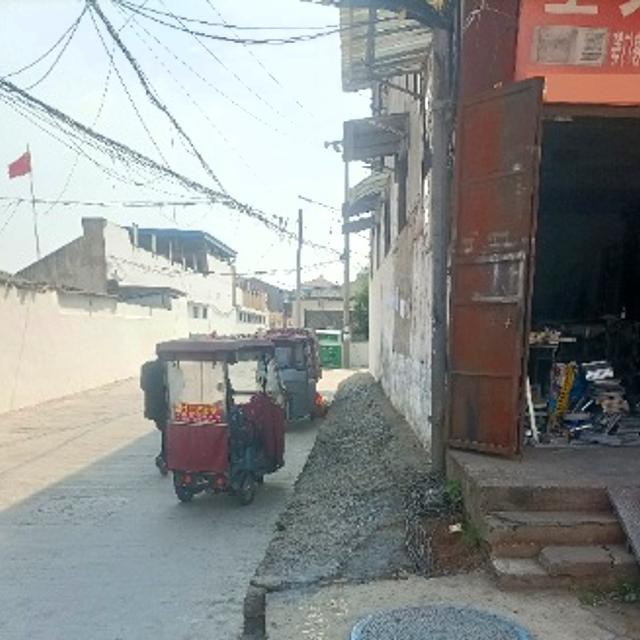good: (342, 583, 539, 640)
